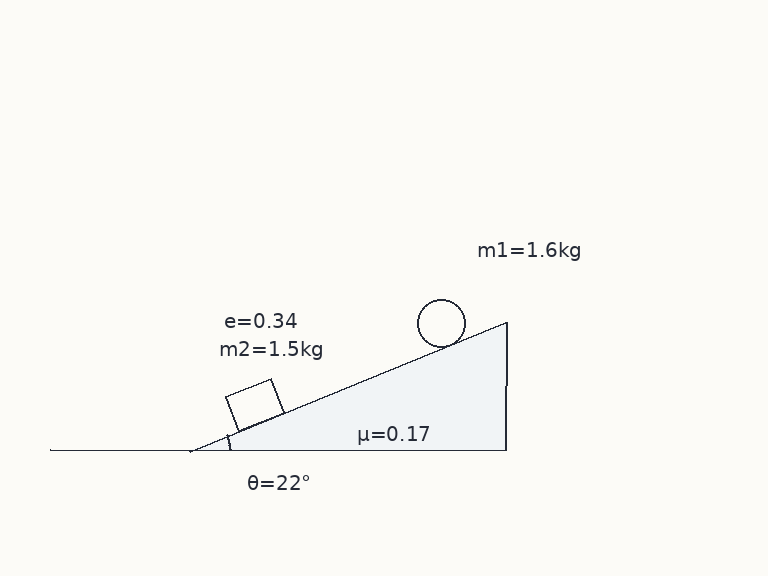ball: (415, 297, 467, 349)
block: (223, 377, 285, 432)
ramp: (188, 321, 507, 452)
